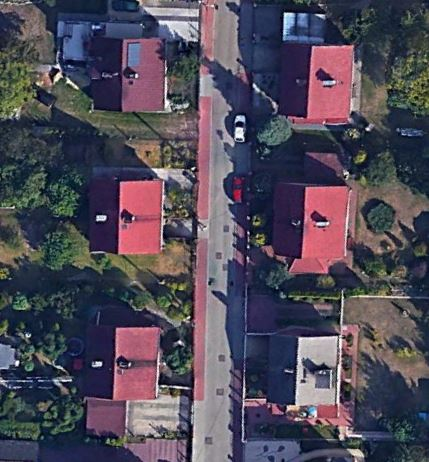family house: (269, 179, 349, 278), (272, 41, 355, 128), (79, 324, 163, 404), (90, 32, 169, 113), (85, 175, 164, 256), (265, 330, 339, 407)
